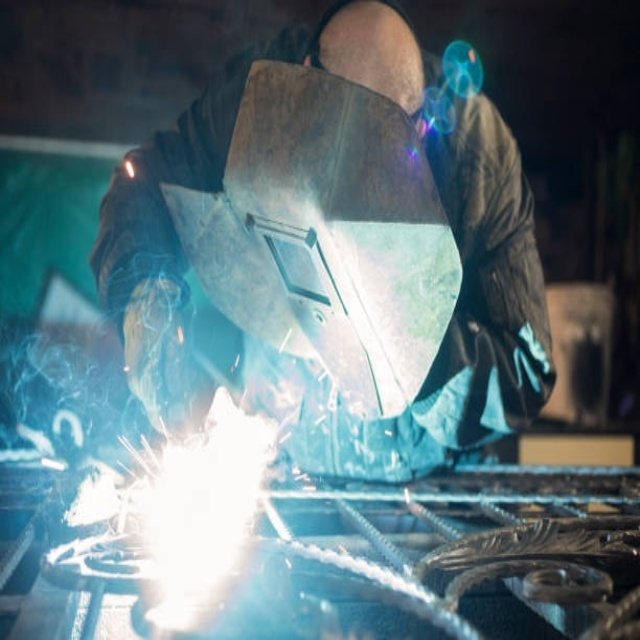Guantes: (124, 279, 245, 445)
